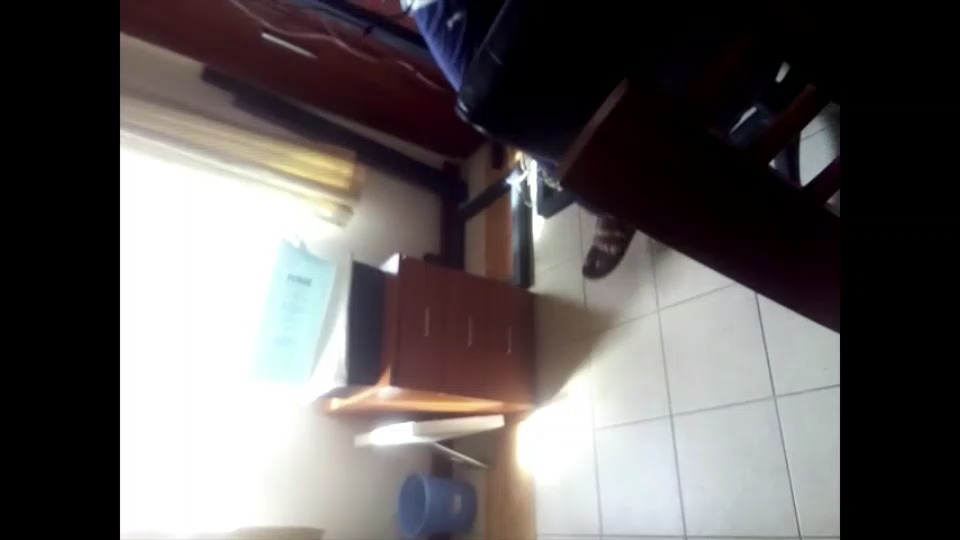wheat_flour_blue_label: (251, 236, 348, 402)
